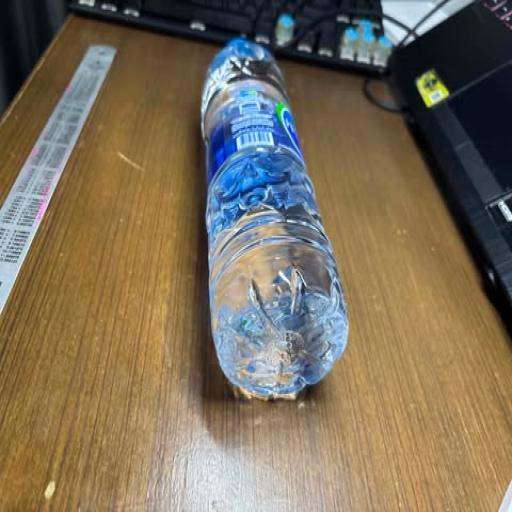bottle: (189, 12, 358, 427)
